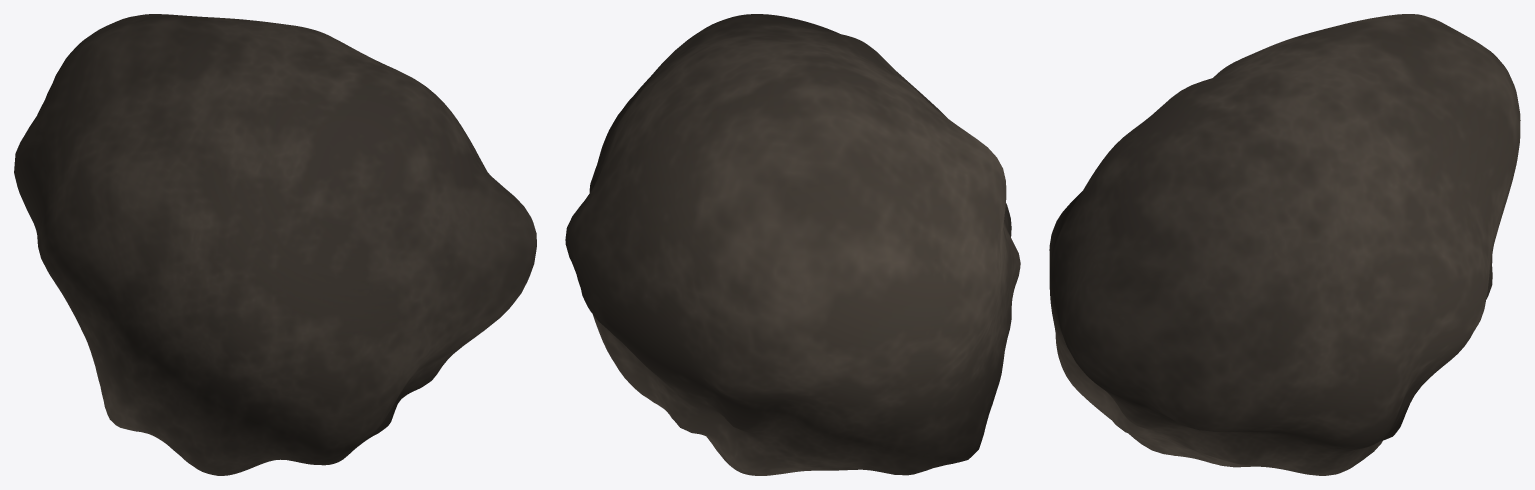
The model's file is asteroid-nodule.glb.
3 renders of one model, left to right at view 1: azimuth 30°, elevation 25°; view 2: azimuth 150°, elevation 25°; view 3: azimuth 270°, elevation 25°, orthographic. The views are drawn at different scales.
Parts seen in each view (by area): view 1: asteroid_2005; view 2: asteroid_2005; view 3: asteroid_2005.
Boxes of the visible parts, <box> form: asteroid_2005: <box>14,14,536,475</box>; asteroid_2005: <box>565,14,1020,475</box>; asteroid_2005: <box>1049,14,1520,475</box>.
Bounding box in the file's own units: 36.42 × 33.89 × 35.37.
Materials: 1 (1 with a texture image).
